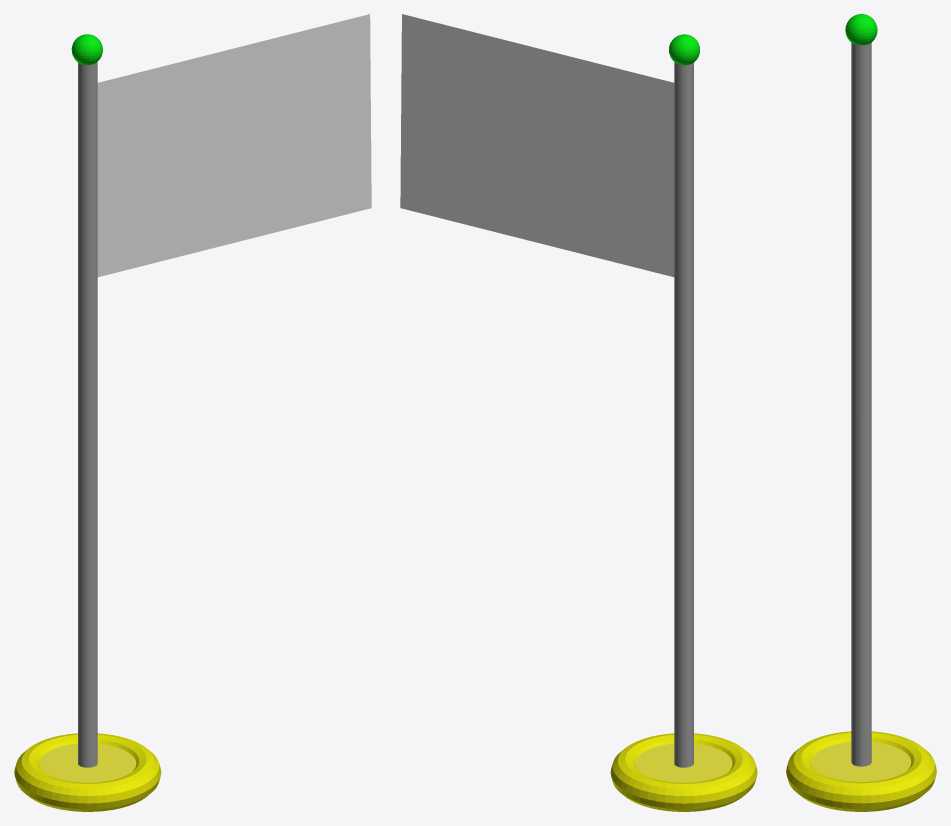
File: Stage1Flag.fbx
3 views of the same model, side by side, from view 1: azimuth 30°, elevation 25°; view 2: azimuth 150°, elevation 25°; view 3: azimuth 270°, elevation 25° (orthographic). The views are drawn at different scales.
Parts seen in each view (by area): view 1: 平面, Cylinder, Torus, Cylinder.001, Sphere; view 2: 平面, Cylinder, Torus, Cylinder.001, Sphere; view 3: Cylinder, Torus, Cylinder.001, Sphere.
Part boxes in pixels (x1,y1,x2,y2): 平面: [97, 14, 371, 277]; Cylinder: [78, 62, 97, 767]; Torus: [14, 733, 161, 811]; Cylinder.001: [39, 743, 136, 782]; Sphere: [71, 34, 102, 64]; 平面: [400, 14, 674, 277]; Cylinder: [674, 62, 693, 767]; Torus: [610, 733, 757, 811]; Cylinder.001: [635, 743, 732, 782]; Sphere: [669, 34, 699, 65]; Cylinder: [851, 43, 871, 766]; Torus: [786, 731, 936, 811]; Cylinder.001: [811, 742, 911, 781]; Sphere: [845, 14, 877, 45].
Size of the model in its own units: 205 by 422 by 75.
